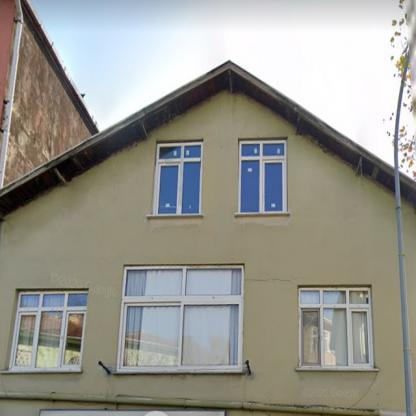window: (122, 267, 242, 367), (14, 292, 87, 368), (300, 289, 369, 366), (156, 143, 201, 214), (241, 142, 283, 213)
